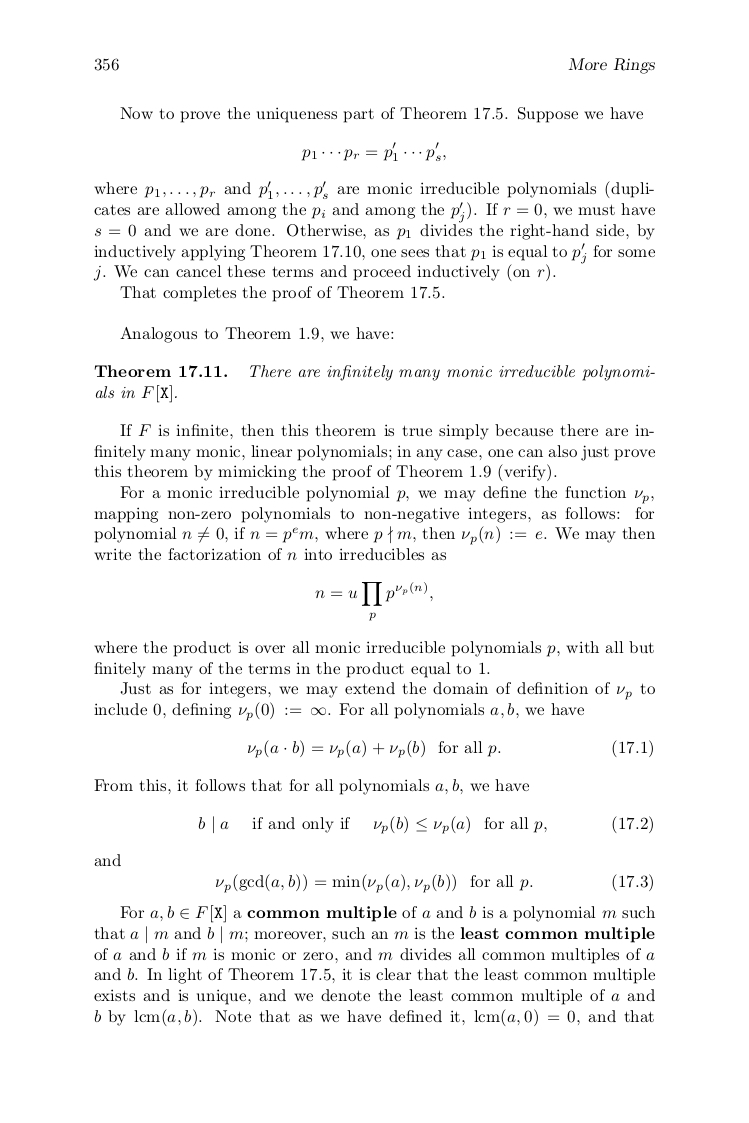formula: (216, 873, 652, 893), (198, 815, 652, 834), (248, 739, 652, 758), (315, 582, 432, 620), (301, 141, 445, 161)
